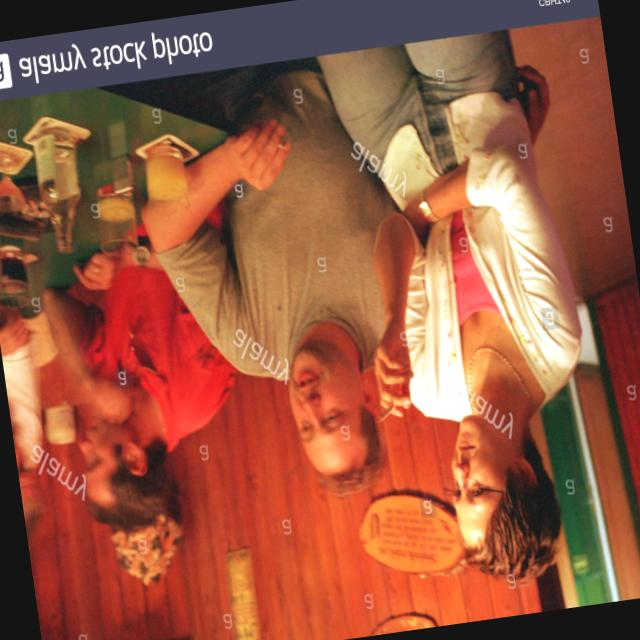smoke: (371, 394, 410, 436)
